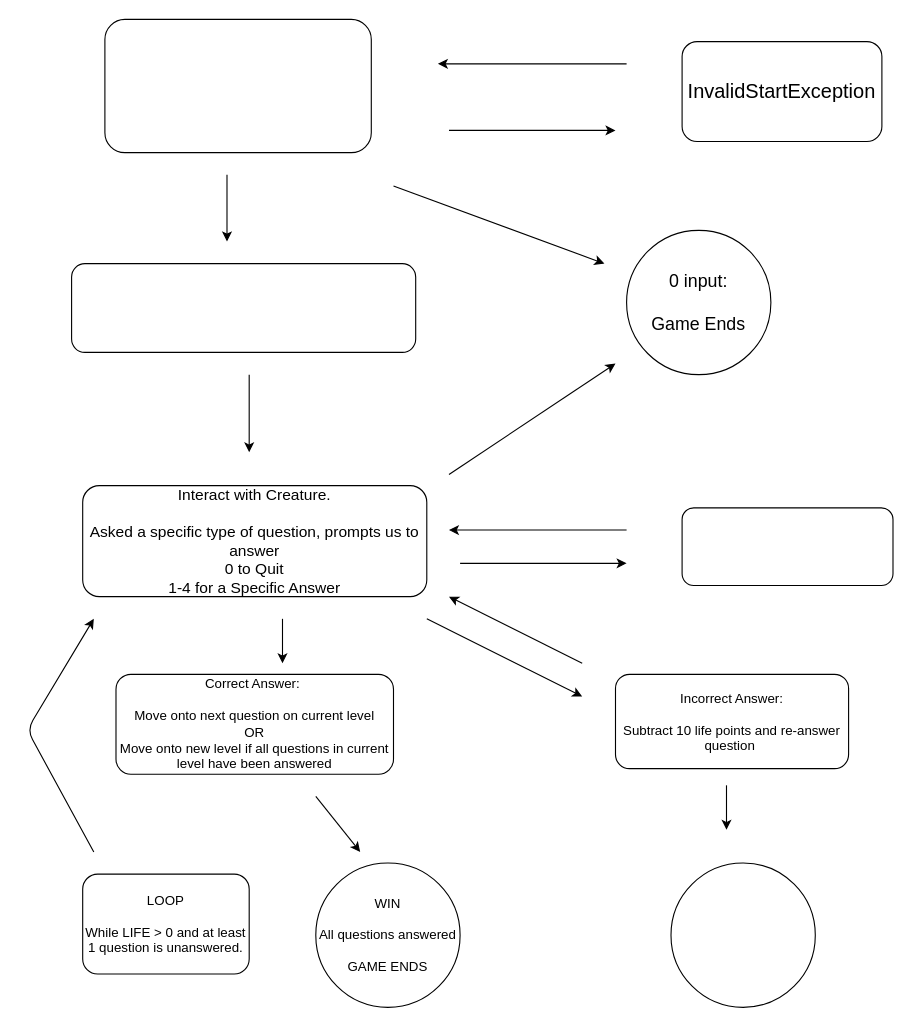
Some shapes in this 912 by 1027 pixel diagram are drawn without their labels. The centre of each missing label's shape, as x and y in pixels:
"1 input: Game begins" belongs at (243,307).
"Introduction to Game Press 1 to START Press 0 to QUIT" belongs at (237,85).
"InvalidAnswerException" belongs at (787,546).
"LOSE Life <= 0 GAME ENDS" belongs at (742,934).
